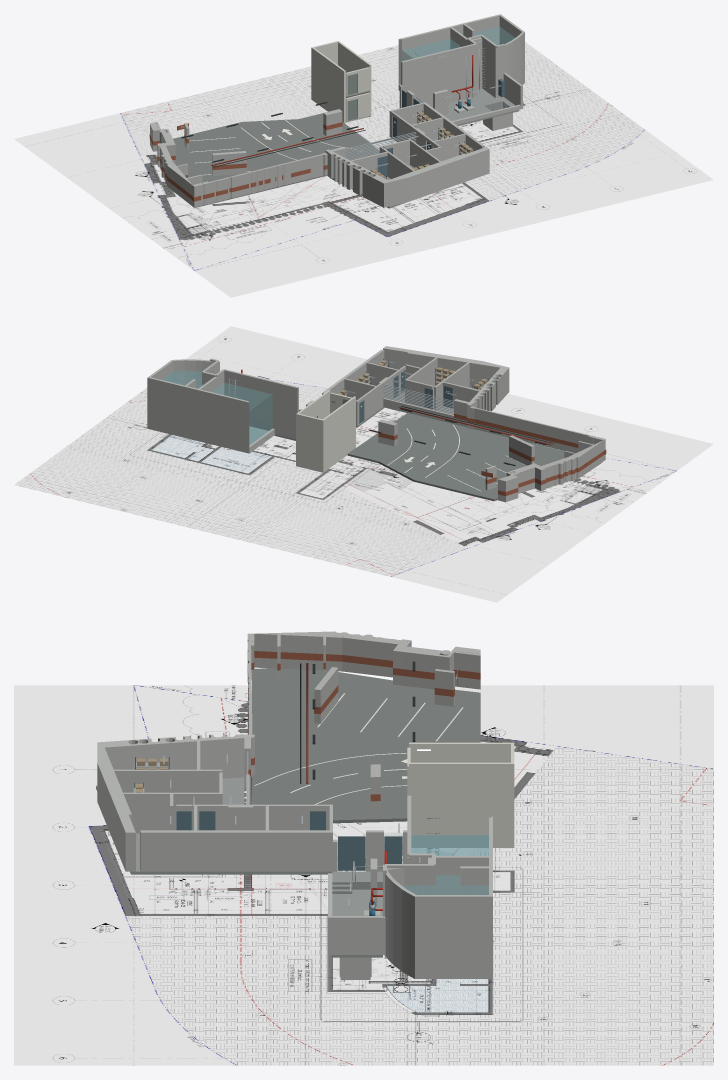
The model's file is B04-overview.glb.
The picture shows the model from 3 angles, top to bottom: view 1: azimuth 30°, elevation 25°; view 2: azimuth 150°, elevation 25°; view 3: azimuth 270°, elevation 25°; orthographic projection. The views are drawn at different scales.
Visible parts, largest first — view 1: SOURCE PLAN | overview underlay at display height, SOURCE approximate sector | graded floor, SOURCE WALL 54, SOURCE PDF clipped fill 554 part 26, SOURCE | reservoir partition, SOURCE FOOTPRINT | reservoir wall.006, SOURCE WALL 32, PROPOSED | west enclosing wall, SOURCE FOOTPRINT | reservoir wall.002, SOURCE | reservoir partition.003, PROPOSED | east enclosing wall, SOURCE PDF clipped fill 23 part 2 (+8 smaller); view 2: SOURCE PLAN | overview underlay at display height, SOURCE approximate sector | graded floor, SOURCE FOOTPRINT | reservoir wall.003, SOURCE PDF clipped fill 554 part 26, SOURCE FOOTPRINT | reservoir wall.014, SOURCE FOOTPRINT | reservoir wall.007, PROPOSED | west enclosing wall, SOURCE | reservoir partition, PROPOSED | far enclosing wall, SOURCE WATER DEPTH4m | volume, SOURCE WALL 55, SOURCE WALL 32 (+10 smaller); view 3: SOURCE PLAN | overview underlay at display height, SOURCE approximate sector | graded floor, PROPOSED | east enclosing wall, SOURCE WALL 31, SOURCE FOOTPRINT | reservoir wall.015, SOURCE WALL 53, SOURCE PDF clipped fill 541 part 25, SOURCE WALL 54, SOURCE WALL 39, SOURCE WALL 44, SOURCE | pump structure.003, PROPOSED | west enclosing wall (+16 smaller).
Boxes of the visible parts, x1,y1,x2,y2 form: SOURCE PLAN | overview underlay at display height: (14, 42, 713, 297); SOURCE approximate sector | graded floor: (173, 113, 379, 207); SOURCE WALL 54: (388, 147, 489, 206); SOURCE PDF clipped fill 554 part 26: (193, 154, 323, 207); SOURCE | reservoir partition: (401, 44, 476, 104); SOURCE FOOTPRINT | reservoir wall.006: (425, 45, 477, 106); SOURCE WALL 32: (325, 150, 389, 207); PROPOSED | west enclosing wall: (312, 47, 345, 123); SOURCE FOOTPRINT | reservoir wall.002: (398, 28, 450, 84); SOURCE | reservoir partition.003: (481, 35, 496, 97); PROPOSED | east enclosing wall: (338, 41, 371, 117); SOURCE PDF clipped fill 23 part 2: (212, 151, 246, 176); SOURCE PLAN | overview underlay at display height: (14, 326, 713, 602); SOURCE approximate sector | graded floor: (347, 413, 600, 501); SOURCE FOOTPRINT | reservoir wall.003: (196, 389, 249, 453); SOURCE PDF clipped fill 554 part 26: (474, 407, 605, 460); SOURCE FOOTPRINT | reservoir wall.014: (147, 377, 183, 437); SOURCE FOOTPRINT | reservoir wall.007: (224, 372, 272, 430); PROPOSED | west enclosing wall: (322, 396, 355, 471); SOURCE | reservoir partition: (223, 369, 298, 439); PROPOSED | far enclosing wall: (296, 413, 324, 472); SOURCE WATER DEPTH4m | volume: (212, 383, 272, 444); SOURCE WALL 55: (407, 352, 500, 387); SOURCE WALL 32: (468, 366, 509, 428); SOURCE PLAN | overview underlay at display height: (14, 685, 713, 1065); SOURCE approximate sector | graded floor: (252, 668, 480, 823); PROPOSED | east enclosing wall: (409, 762, 512, 847); SOURCE WALL 31: (140, 830, 332, 871); SOURCE FOOTPRINT | reservoir wall.015: (415, 895, 492, 978); SOURCE WALL 53: (101, 736, 254, 778); SOURCE PDF clipped fill 541 part 25: (254, 633, 342, 671); SOURCE WALL 54: (97, 746, 135, 871); SOURCE WALL 39: (114, 769, 222, 792); SOURCE WALL 44: (123, 792, 219, 833); SOURCE | pump structure.003: (328, 916, 385, 954); PROPOSED | west enclosing wall: (409, 742, 511, 762).
Size of the model in its own units: 54 by 8.48 by 42.
36 materials, 1 textured.
